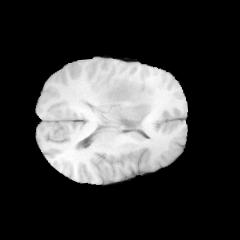glioma: (101, 80, 154, 126)
